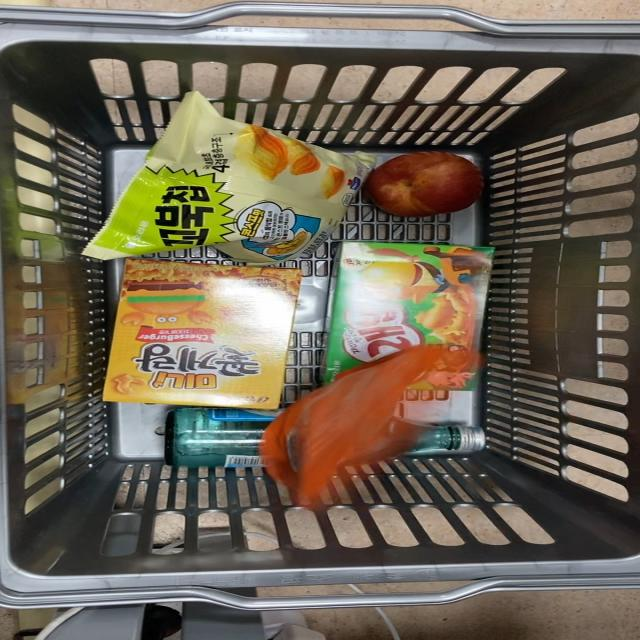cheesebagel: (277, 345, 460, 486)
ggobukchip: (70, 97, 340, 261)
goraebob: (339, 237, 492, 354)
jinro: (161, 410, 272, 469)
minicrab: (90, 262, 290, 402)
plum: (354, 145, 500, 219)
